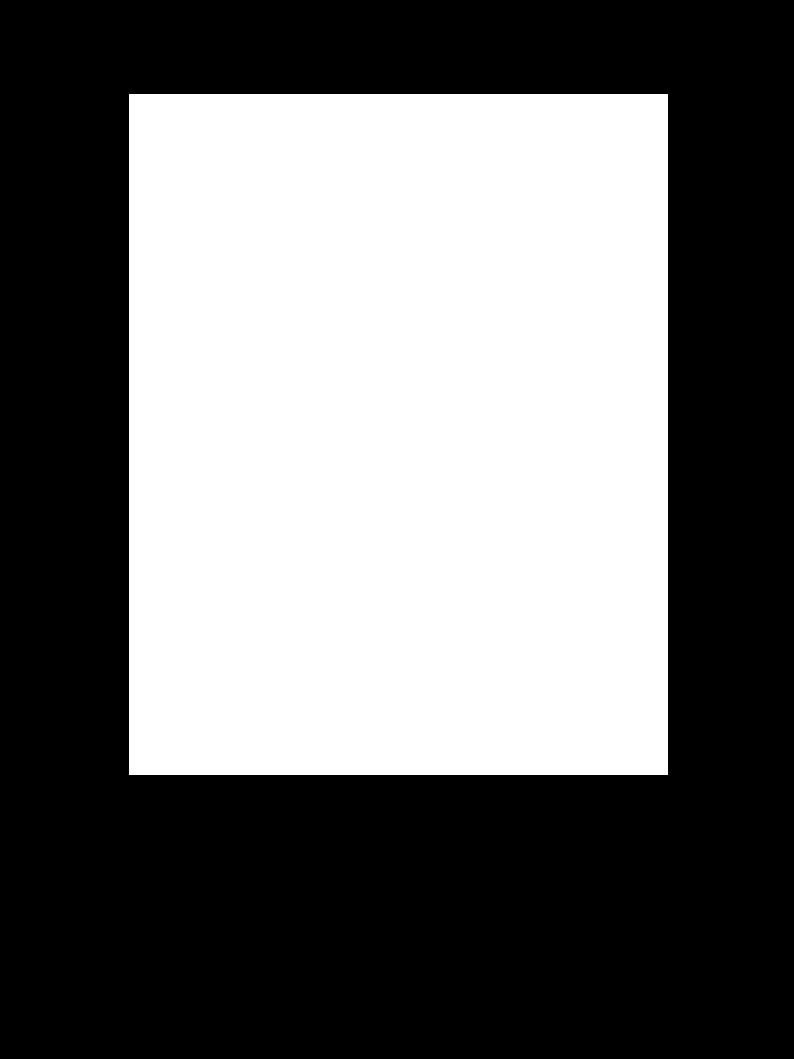table: (129, 94, 667, 774)
